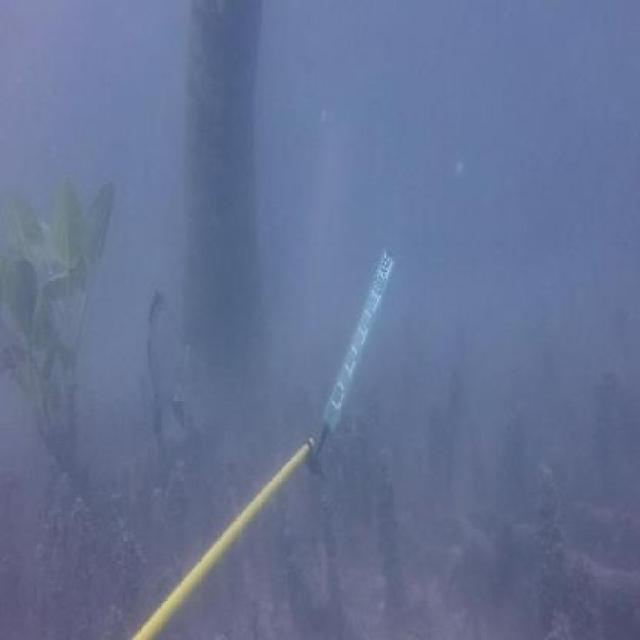acanthopagrus_palmaris: (143, 278, 200, 450)
